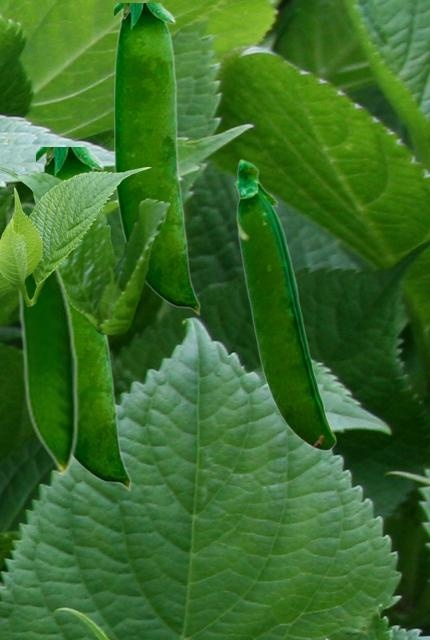pea: (36, 147, 130, 490), (234, 158, 335, 450), (114, 3, 199, 314), (4, 200, 78, 479)
